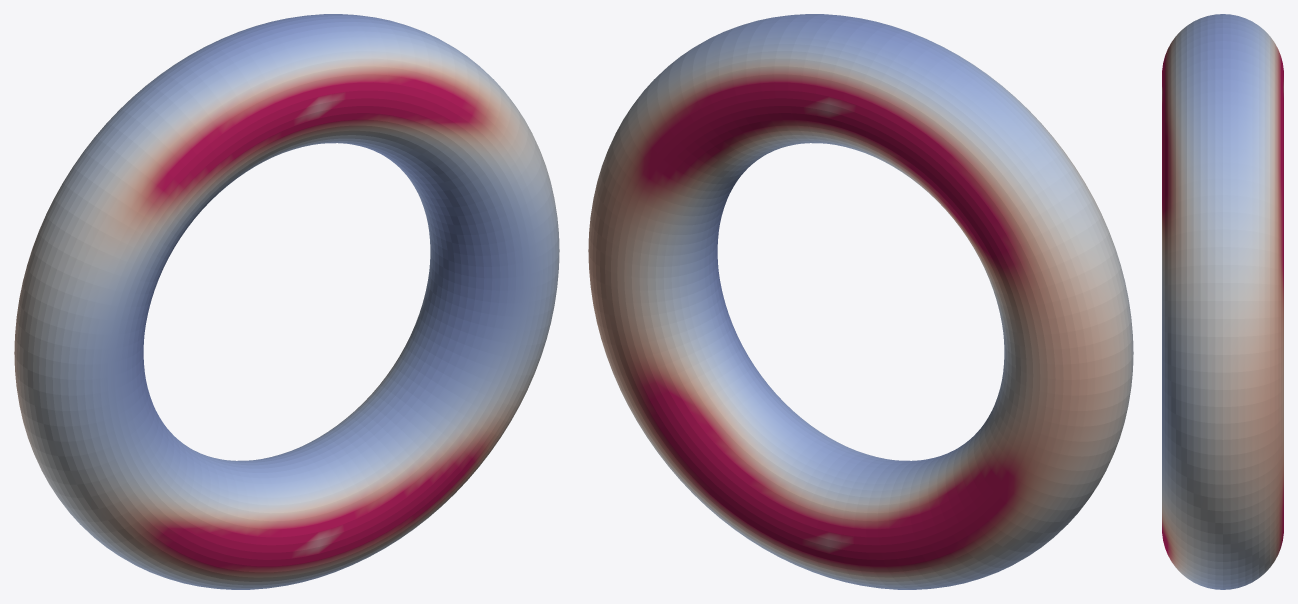
3 renders of one model, left to right at view 1: azimuth 30°, elevation 25°; view 2: azimuth 150°, elevation 25°; view 3: azimuth 270°, elevation 25°, orthographic. The views are drawn at different scales.
Visible parts, largest first — view 1: world; view 2: world; view 3: world.
Boxes of the visible parts, box(x1,y1,x2,y2) form: world: box(14, 14, 559, 589); world: box(588, 14, 1133, 589); world: box(1162, 14, 1283, 589).
Bounding box in the file's own units: 24.53 × 24.53 × 5.19.
